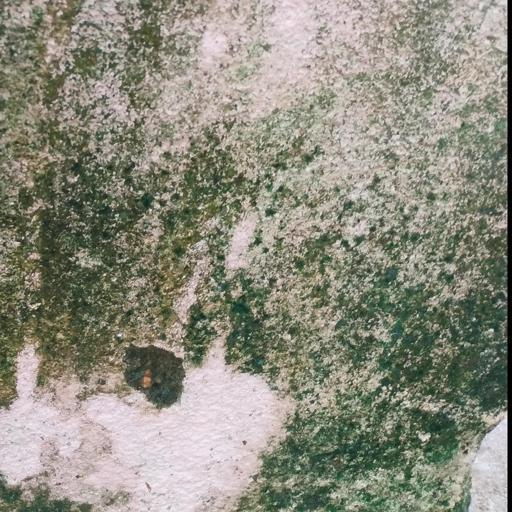algae: (1, 0, 506, 510)
